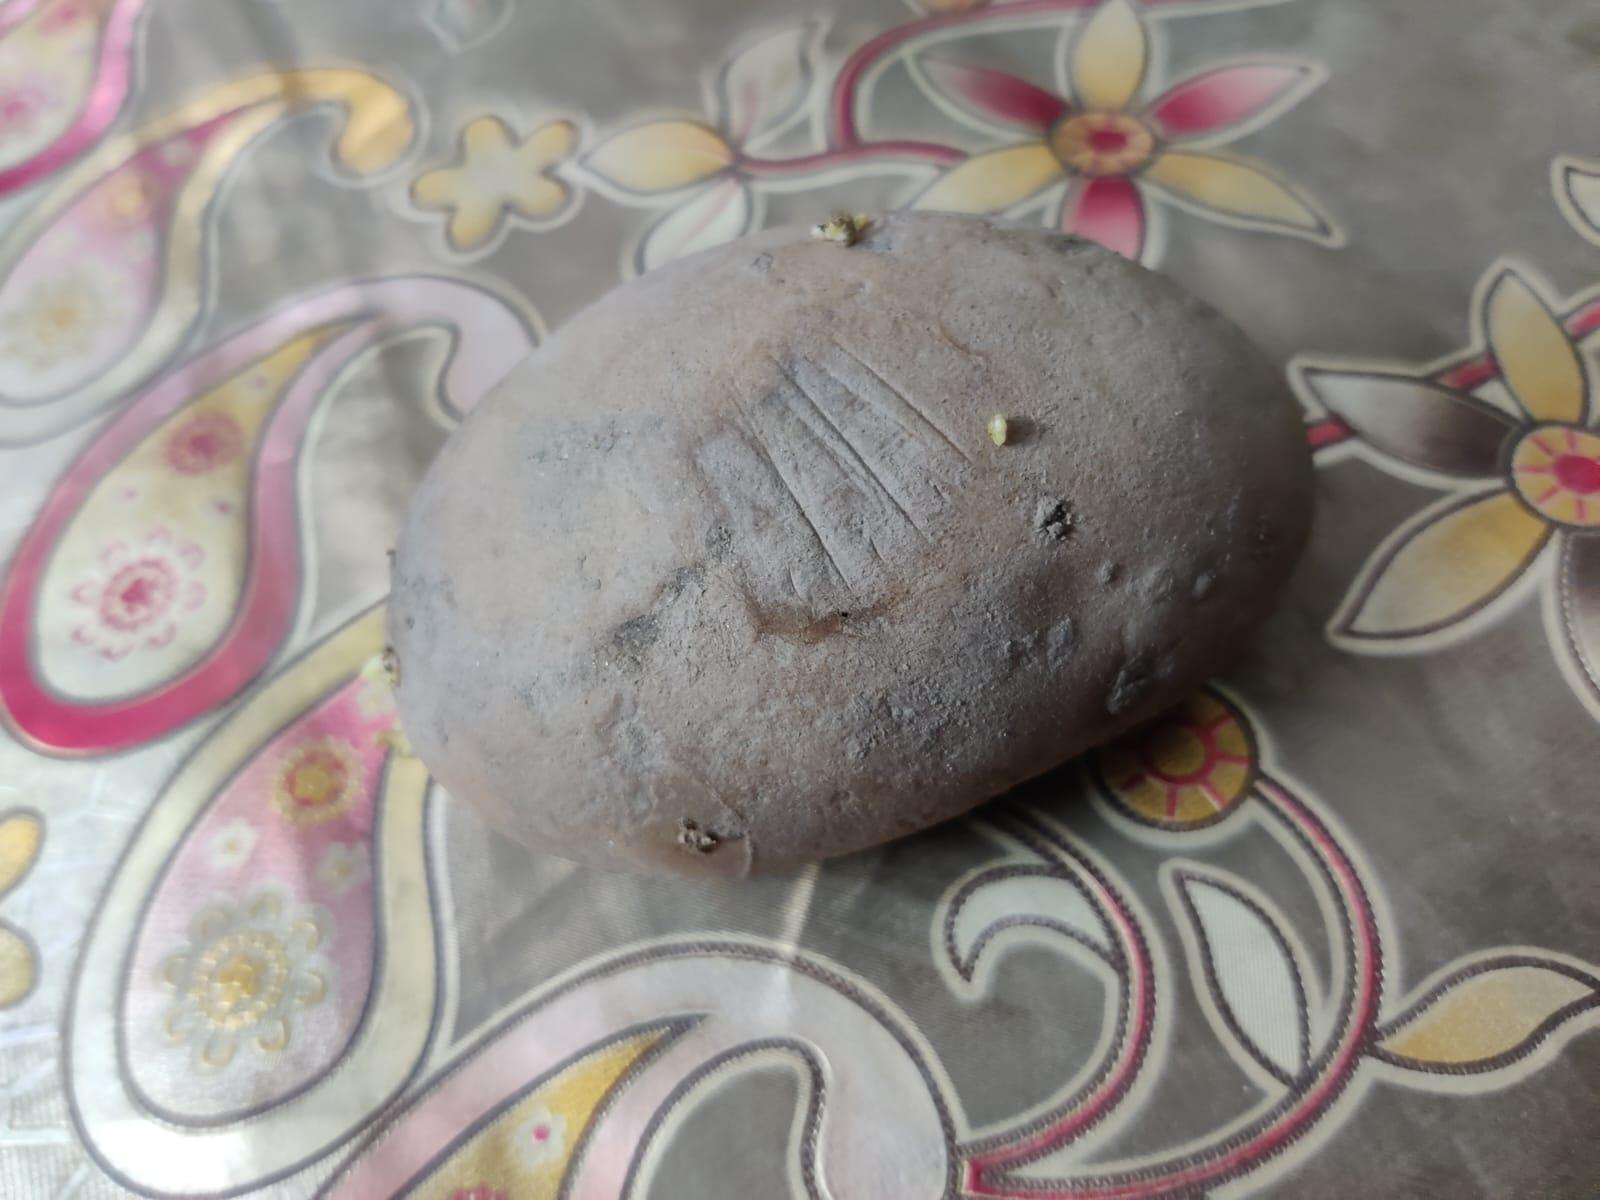non-mango: (377, 211, 1300, 741)
